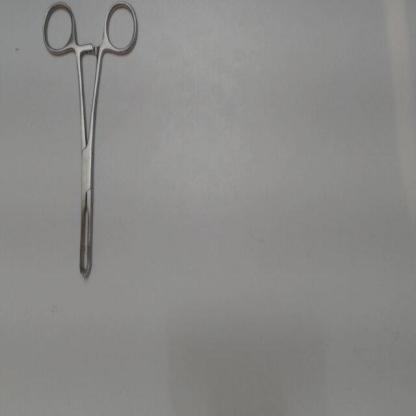Allis Tissue Forceps: (38, 1, 147, 295)
